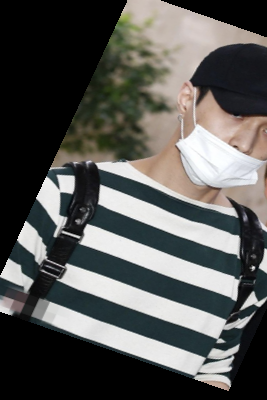mask_weared_incorrect: (160, 37, 267, 189)
